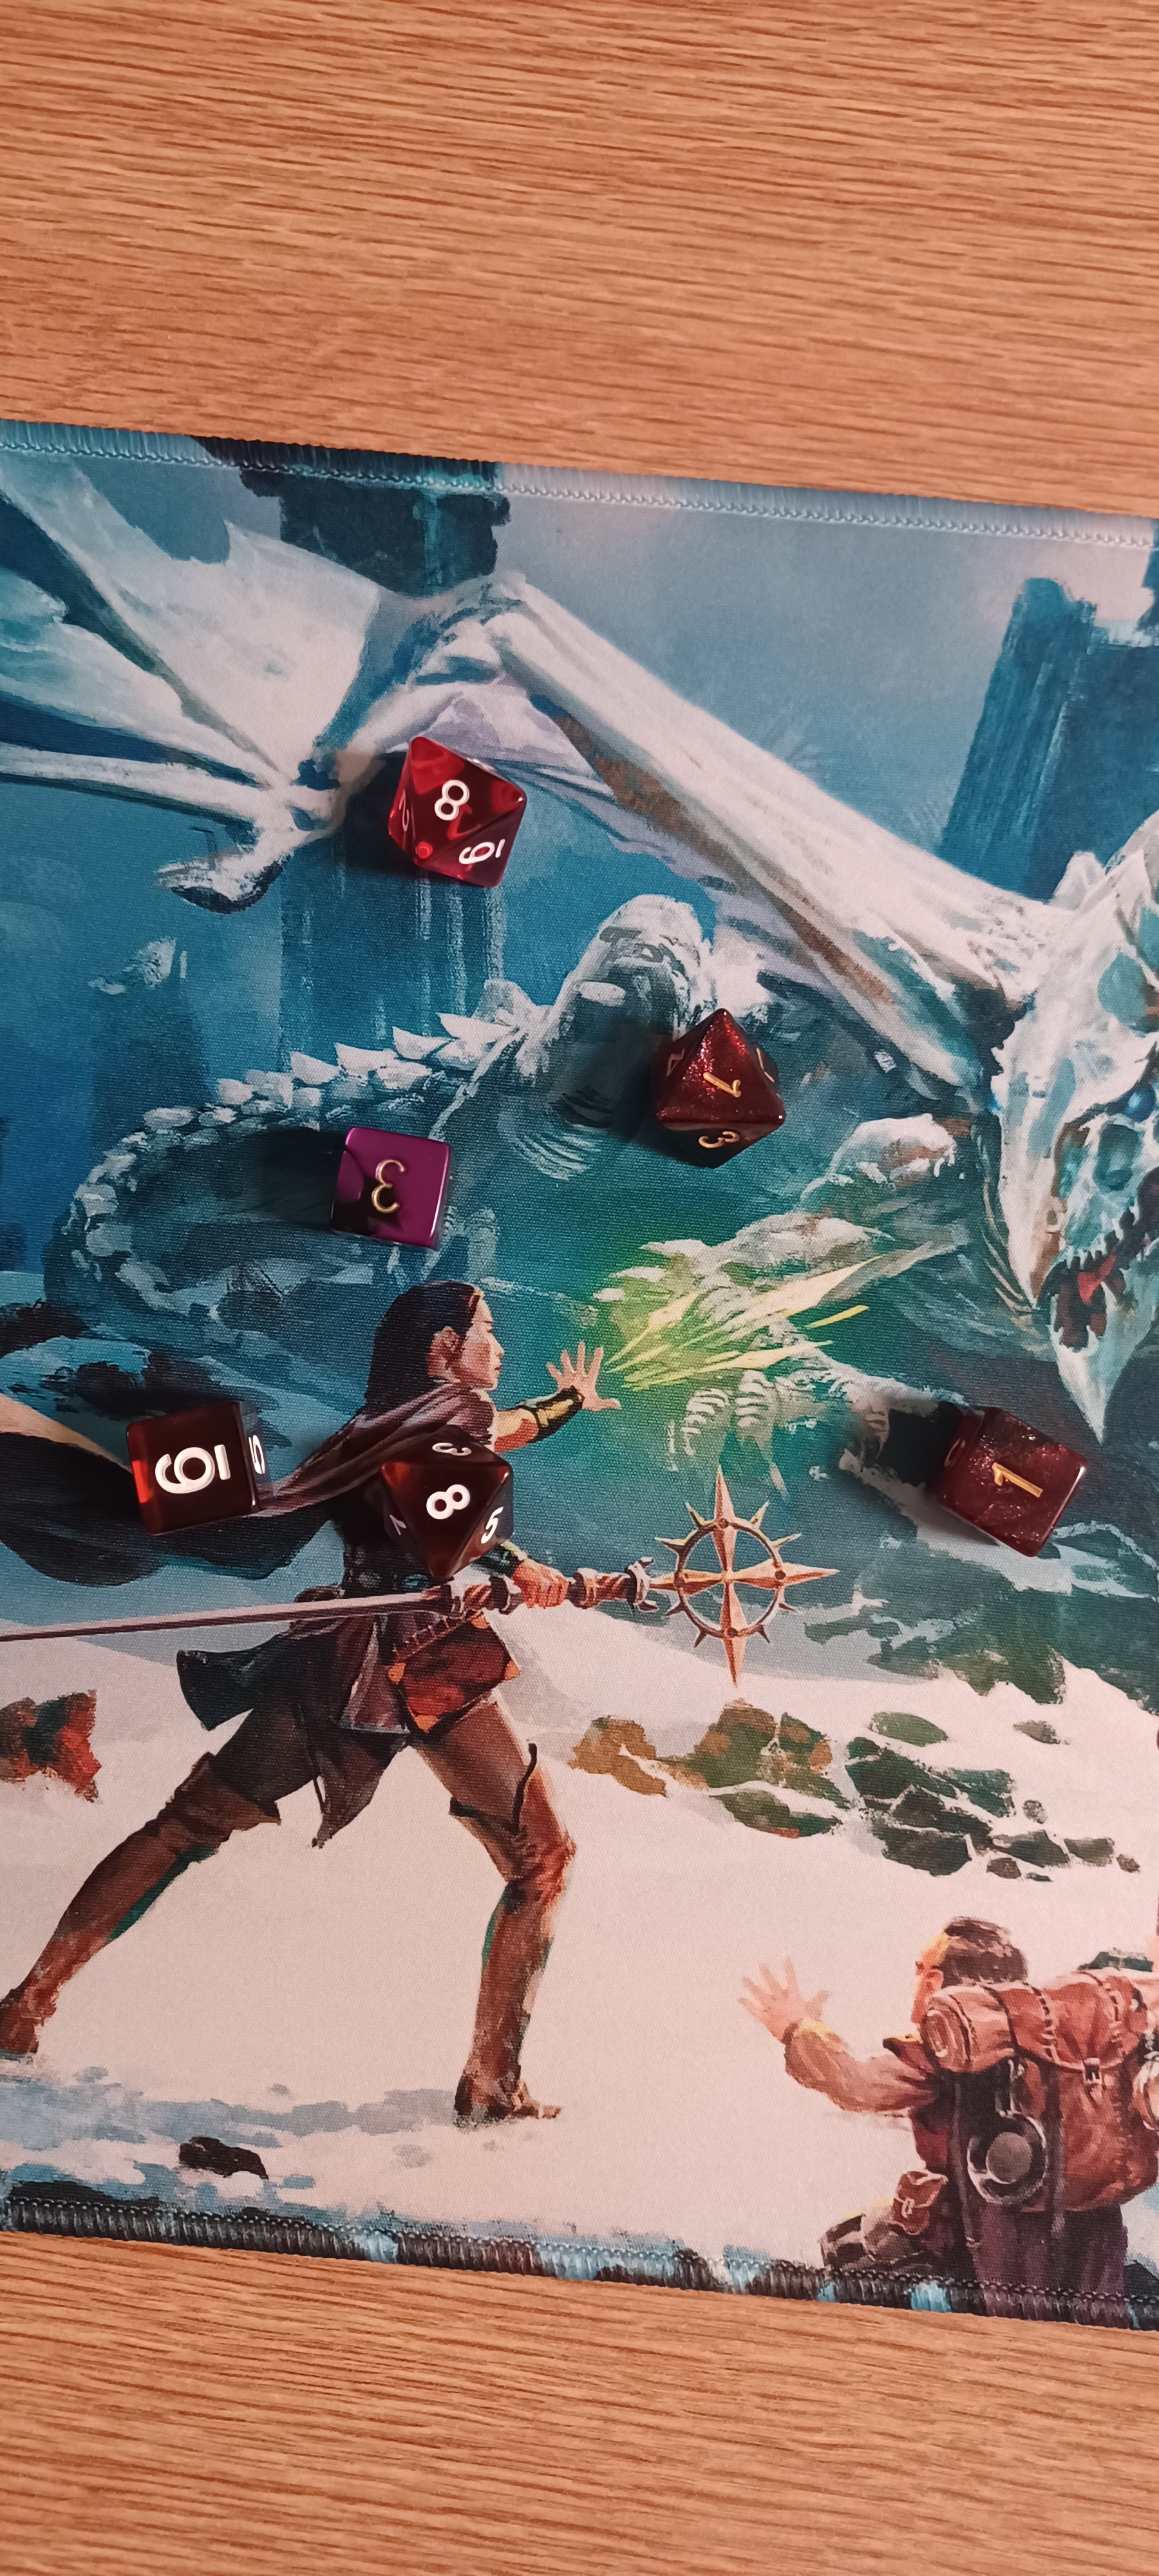eight: (353, 1391, 553, 1615), (351, 710, 561, 918)
one: (911, 1375, 1118, 1582), (619, 991, 831, 1193)
six: (85, 1364, 307, 1566)
three: (284, 1086, 499, 1280)
